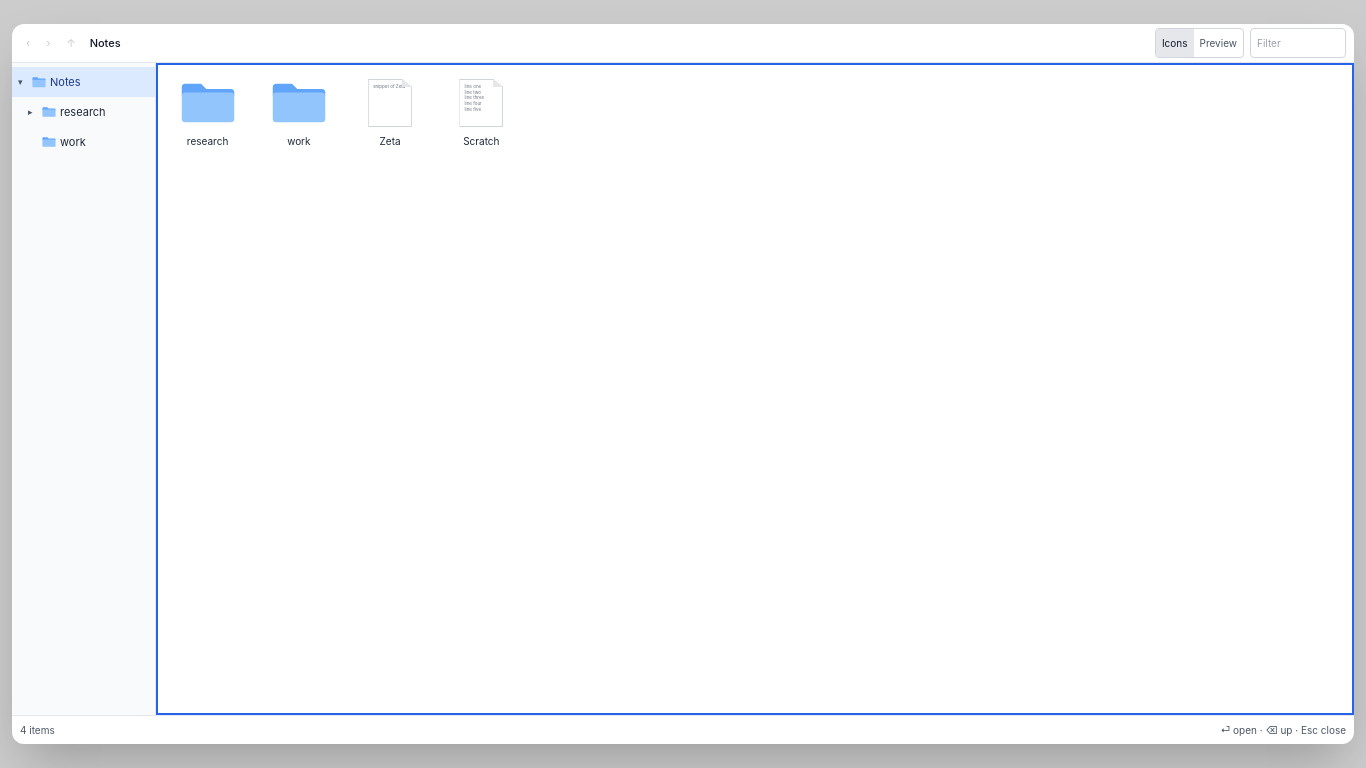
Test case: Explorer: Preview cards › a folder card shows its name, item count and first five entries
Click the button "Preview".
click(1218, 43)  # box [1194,29,1243,57]
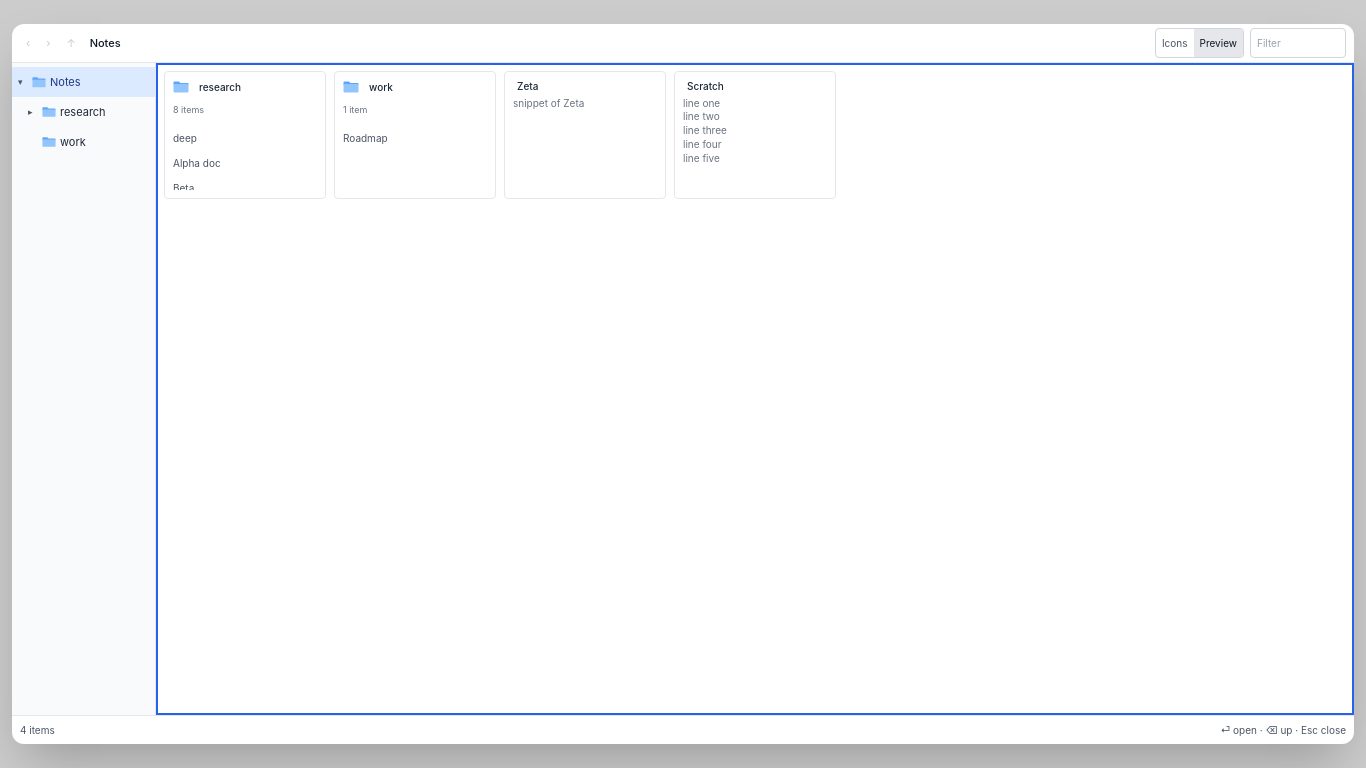
Expected: the option "research 8 items deep Alpha doc Beta Gamma Delta" is shown, [164,71,326,199]
